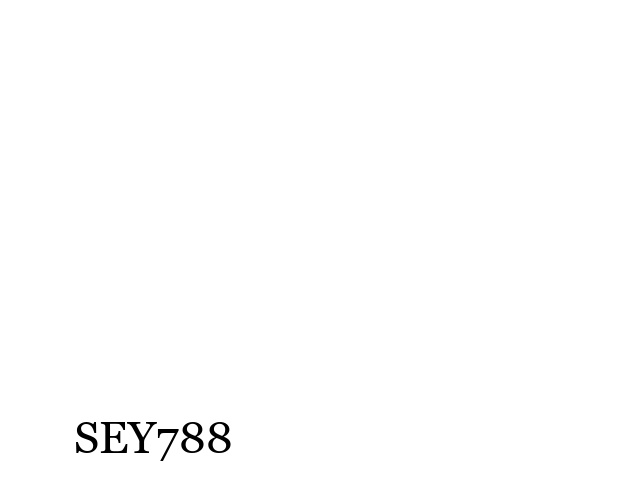OCR_AREA: (70, 418, 237, 465)
